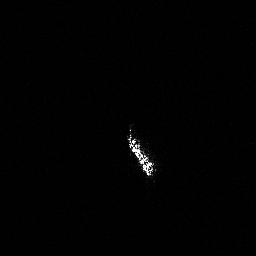ship: (122, 126, 159, 180)
